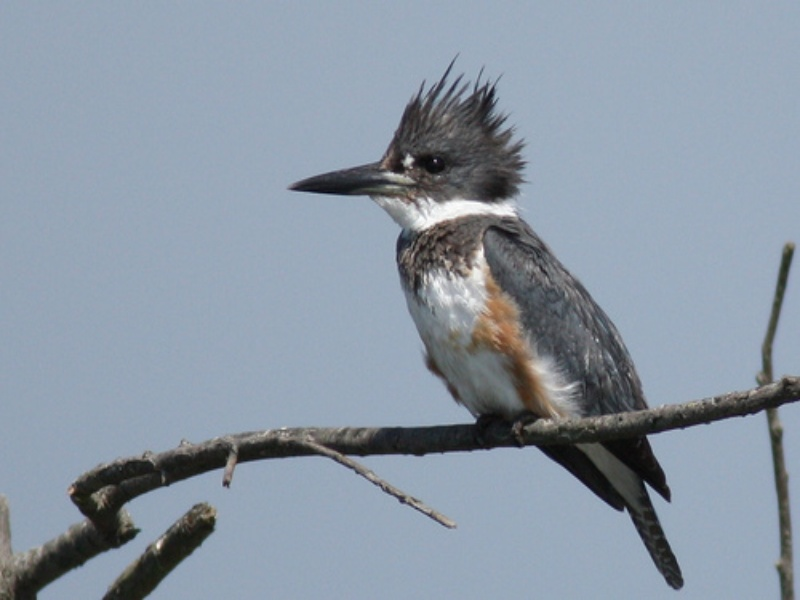kingfisher: (281, 58, 690, 592)
